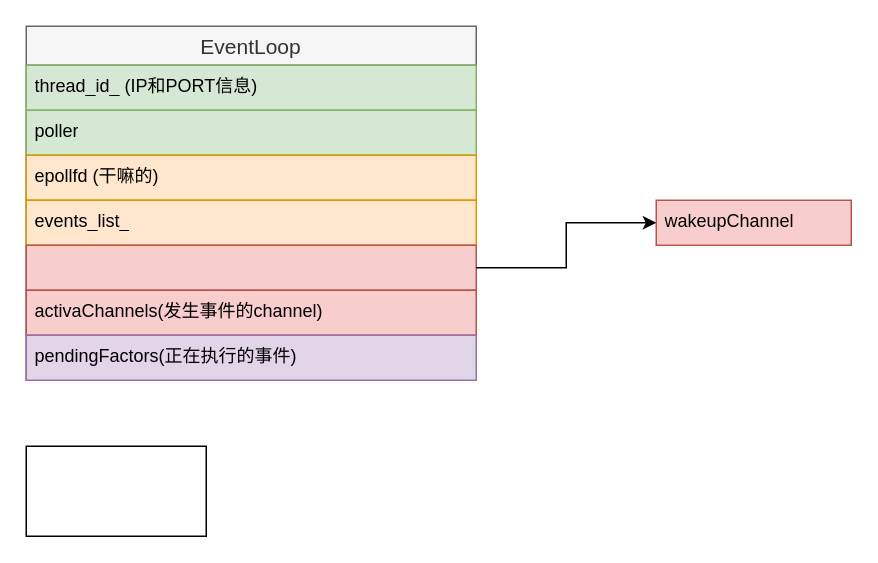
This 878x563 diagram has some shape labels left out. Here are the shapes that lost their labels. From the top down, the centre of each, then its label:
the point at 250,267: wakeupfd(eventfd，连接建立事件通知)
the point at 115,490: 构造，初始化： looping_:false
